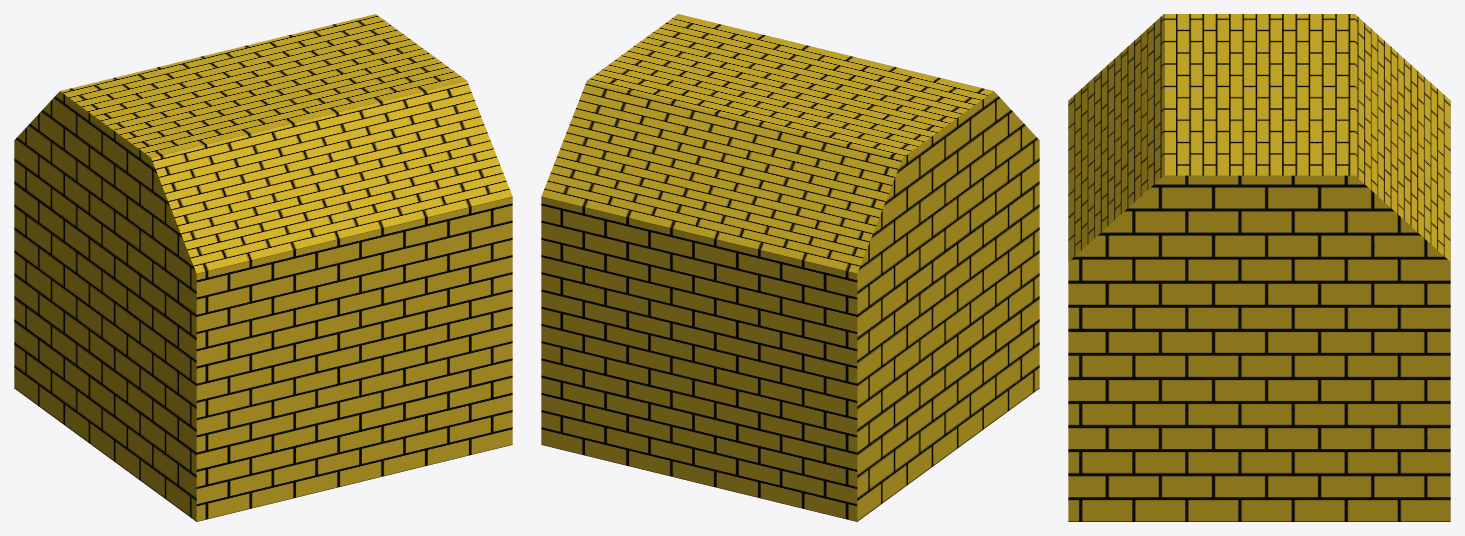
The model's file is Wall22.fbx.
The picture shows the model from 3 angles, left to right: view 1: azimuth 30°, elevation 25°; view 2: azimuth 150°, elevation 25°; view 3: azimuth 270°, elevation 25°; orthographic projection. The views are drawn at different scales.
Visible parts, largest first — view 1: Cube; view 2: Cube; view 3: Cube.
Part boxes in pixels (x1,y1,x2,y2): Cube: (14,14,512,521); Cube: (541,14,1039,521); Cube: (1068,14,1450,521).
Bounding box in the file's own units: 100 × 100 × 100.
